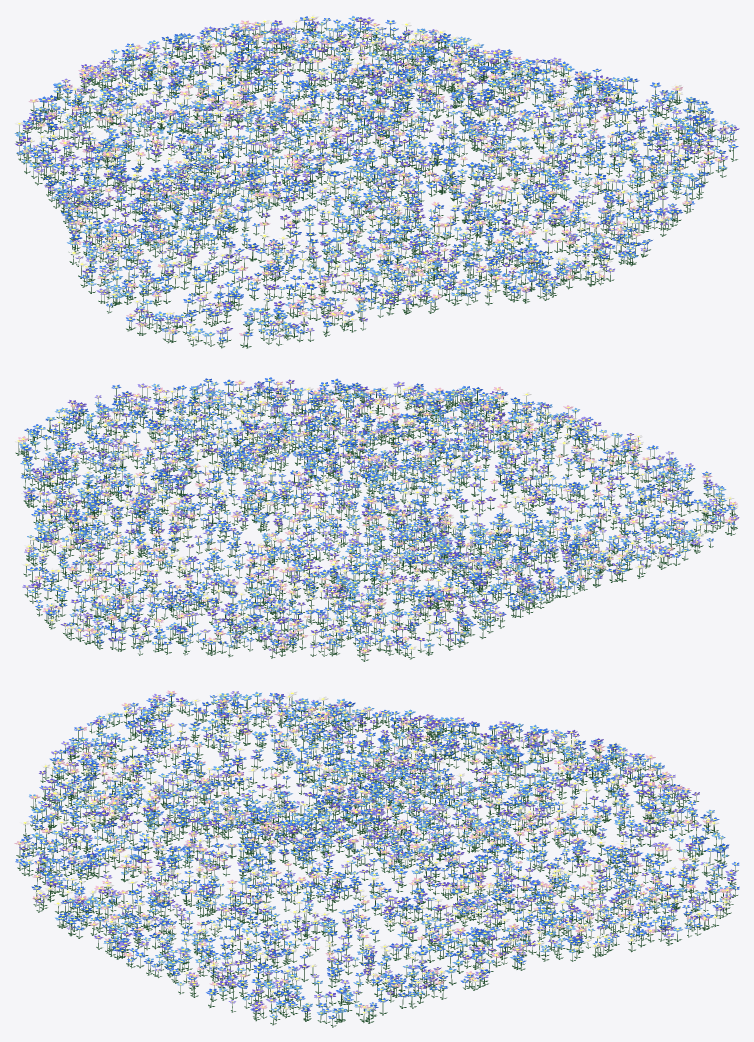
Rendered from dense-flower-meadow.glb.
3 views of the same model, one above another, from view 1: azimuth 30°, elevation 25°; view 2: azimuth 150°, elevation 25°; view 3: azimuth 270°, elevation 25° (orthographic). The views are drawn at different scales.
Parts seen in each view (by area): view 1: DenseFlowerMeadow_darkLeaf, DenseFlowerMeadow_stemGreen, DenseFlowerMeadow_flowerCyan, DenseFlowerMeadow_flowerBlue1, DenseFlowerMeadow_flowerCenterGold, DenseFlowerMeadow_flowerWhite, DenseFlowerMeadow_flowerViolet, DenseFlowerMeadow_flowerPink, DenseFlowerMeadow_flowerLavender, DenseFlowerMeadow_flowerBlue2; view 2: DenseFlowerMeadow_darkLeaf, DenseFlowerMeadow_stemGreen, DenseFlowerMeadow_flowerCyan, DenseFlowerMeadow_flowerBlue1, DenseFlowerMeadow_flowerCenterGold, DenseFlowerMeadow_flowerWhite, DenseFlowerMeadow_flowerViolet, DenseFlowerMeadow_flowerLavender, DenseFlowerMeadow_flowerPink, DenseFlowerMeadow_flowerBlue2; view 3: DenseFlowerMeadow_darkLeaf, DenseFlowerMeadow_stemGreen, DenseFlowerMeadow_flowerCyan, DenseFlowerMeadow_flowerBlue1, DenseFlowerMeadow_flowerCenterGold, DenseFlowerMeadow_flowerWhite, DenseFlowerMeadow_flowerViolet, DenseFlowerMeadow_flowerPink, DenseFlowerMeadow_flowerLavender, DenseFlowerMeadow_flowerBlue2.
Part boxes in pixels (box(x1,y1,x2,y2)): DenseFlowerMeadow_darkLeaf: box(16, 27, 737, 348); DenseFlowerMeadow_stemGreen: box(19, 18, 734, 347); DenseFlowerMeadow_flowerCyan: box(14, 16, 735, 336); DenseFlowerMeadow_flowerBlue1: box(17, 16, 738, 341); DenseFlowerMeadow_flowerCenterGold: box(18, 16, 735, 339); DenseFlowerMeadow_flowerWhite: box(14, 14, 718, 339); DenseFlowerMeadow_flowerViolet: box(15, 17, 739, 330); DenseFlowerMeadow_flowerPink: box(23, 18, 729, 336); DenseFlowerMeadow_flowerLavender: box(26, 17, 735, 336); DenseFlowerMeadow_flowerBlue2: box(31, 22, 725, 316); DenseFlowerMeadow_darkLeaf: box(15, 390, 737, 661); DenseFlowerMeadow_stemGreen: box(18, 382, 734, 660); DenseFlowerMeadow_flowerCyan: box(19, 381, 726, 647); DenseFlowerMeadow_flowerBlue1: box(21, 377, 736, 649); DenseFlowerMeadow_flowerCenterGold: box(17, 379, 735, 651); DenseFlowerMeadow_flowerWhite: box(14, 384, 738, 649); DenseFlowerMeadow_flowerViolet: box(30, 379, 724, 650); DenseFlowerMeadow_flowerLavender: box(22, 381, 739, 648); DenseFlowerMeadow_flowerPink: box(18, 380, 738, 653); DenseFlowerMeadow_flowerBlue2: box(22, 378, 693, 646); DenseFlowerMeadow_darkLeaf: box(16, 702, 738, 1027); DenseFlowerMeadow_stemGreen: box(19, 694, 735, 1026); DenseFlowerMeadow_flowerCyan: box(25, 691, 734, 1018); DenseFlowerMeadow_flowerBlue1: box(15, 693, 739, 1012); DenseFlowerMeadow_flowerCenterGold: box(18, 692, 736, 1017); DenseFlowerMeadow_flowerWhite: box(19, 690, 730, 1014); DenseFlowerMeadow_flowerViolet: box(19, 693, 736, 1011); DenseFlowerMeadow_flowerPink: box(14, 690, 732, 1008); DenseFlowerMeadow_flowerLavender: box(35, 691, 736, 1009); DenseFlowerMeadow_flowerBlue2: box(21, 697, 739, 1018).
Bounding box in the file's own units: 18.2 × 1.33 × 17.26.
